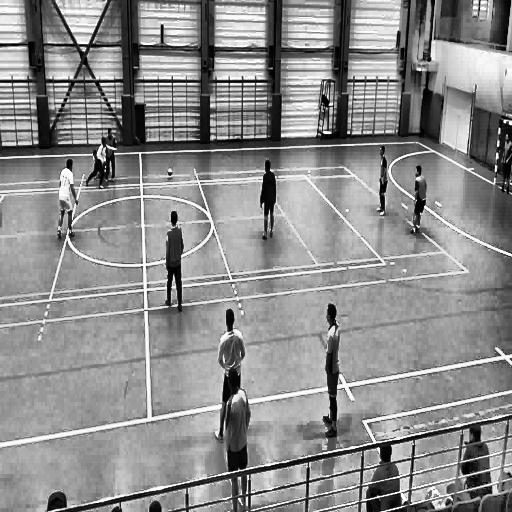ball: (166, 165, 174, 178)
player: (223, 366, 253, 512), (215, 306, 240, 442), (319, 302, 340, 440), (163, 209, 187, 317), (56, 158, 80, 241), (83, 137, 117, 191), (407, 163, 427, 239), (259, 158, 276, 244), (376, 143, 390, 222), (105, 127, 118, 185), (501, 129, 511, 196), (90, 147, 106, 179)
